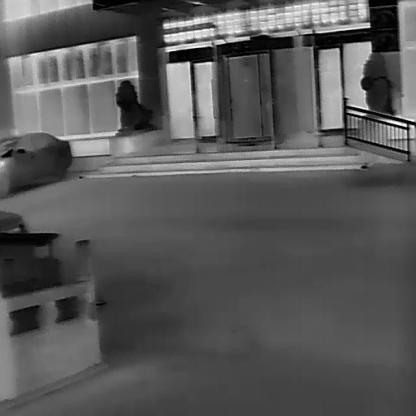car: (0, 128, 71, 196)
